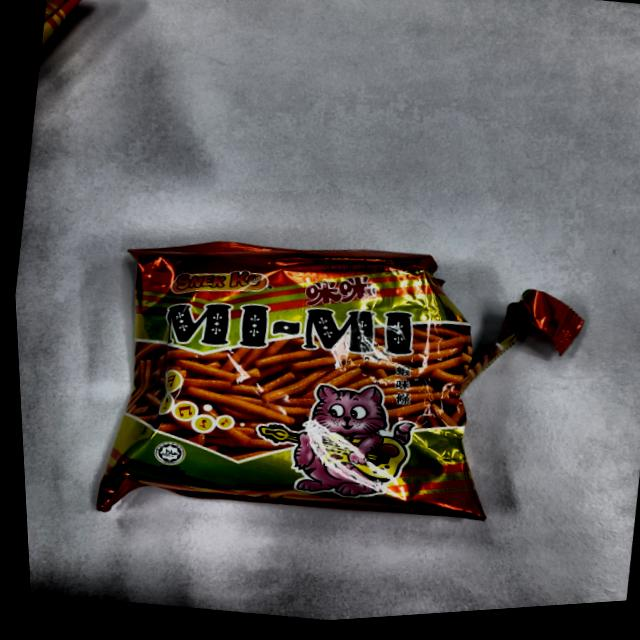Plastic: (62, 201, 535, 561)
